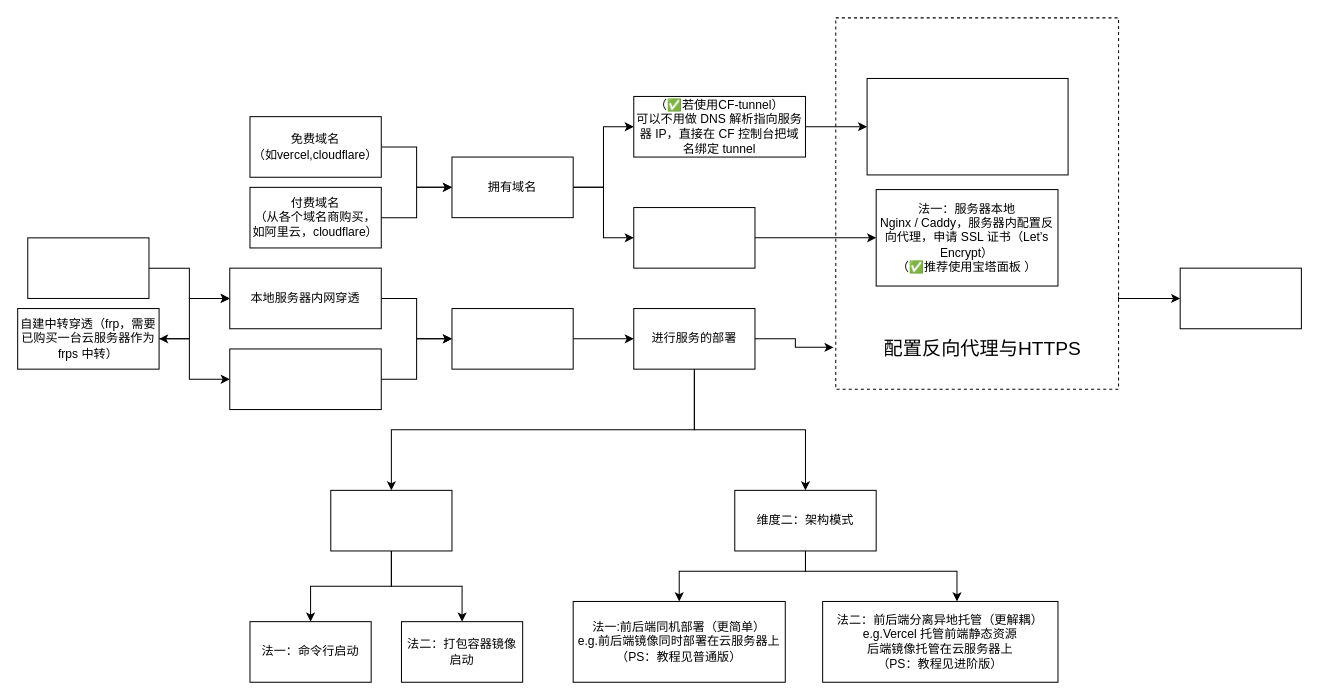
The diagram is 1319 pixels wide and 700 high, and some of its shapes have lost their labels. The box of each missing label's shape, as (x1, y1, x2, y2) in pixels:
拥有服务器: (451, 308, 573, 369)
搞定✅️: (1179, 267, 1301, 329)
第三方托管穿透 （免费的第三方如cpolar，贝锐，cf‑tunnel）: (27, 237, 149, 298)
维度一：运行方式: (330, 489, 452, 551)
购买云服务器 （比如阿里云，甲骨文云）: (229, 348, 381, 410)
进行域名DNS解析: (633, 207, 755, 268)
（（✅️若使用CF-tunnel）） 法二：CDN实现 域名接入 Cloudflare，由 CF 提供 HTTPS、缓存、防护；后端服务可以使用 HTTP。: (866, 77, 1068, 175)
